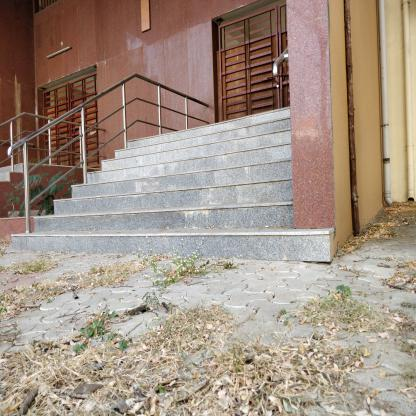stairs: (125, 134, 289, 264)
